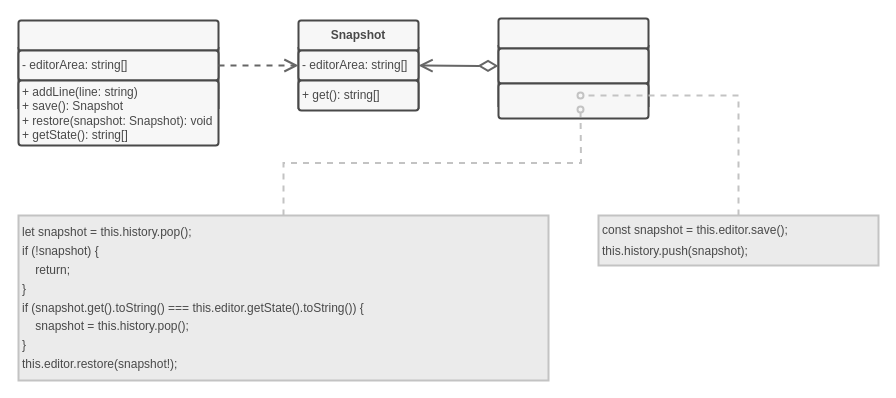
The diagram is 896 pixels wide and 398 high, and some of its shapes have lost their labels. The centre of each missing label's shape, as x and y in pixels:
+ save(): void + undo(): void: the point at 573,100
- history: Snapshot[] - editor: Editor: the point at 573,65
Editor: the point at 118,35
EditorHistory: the point at 573,33
